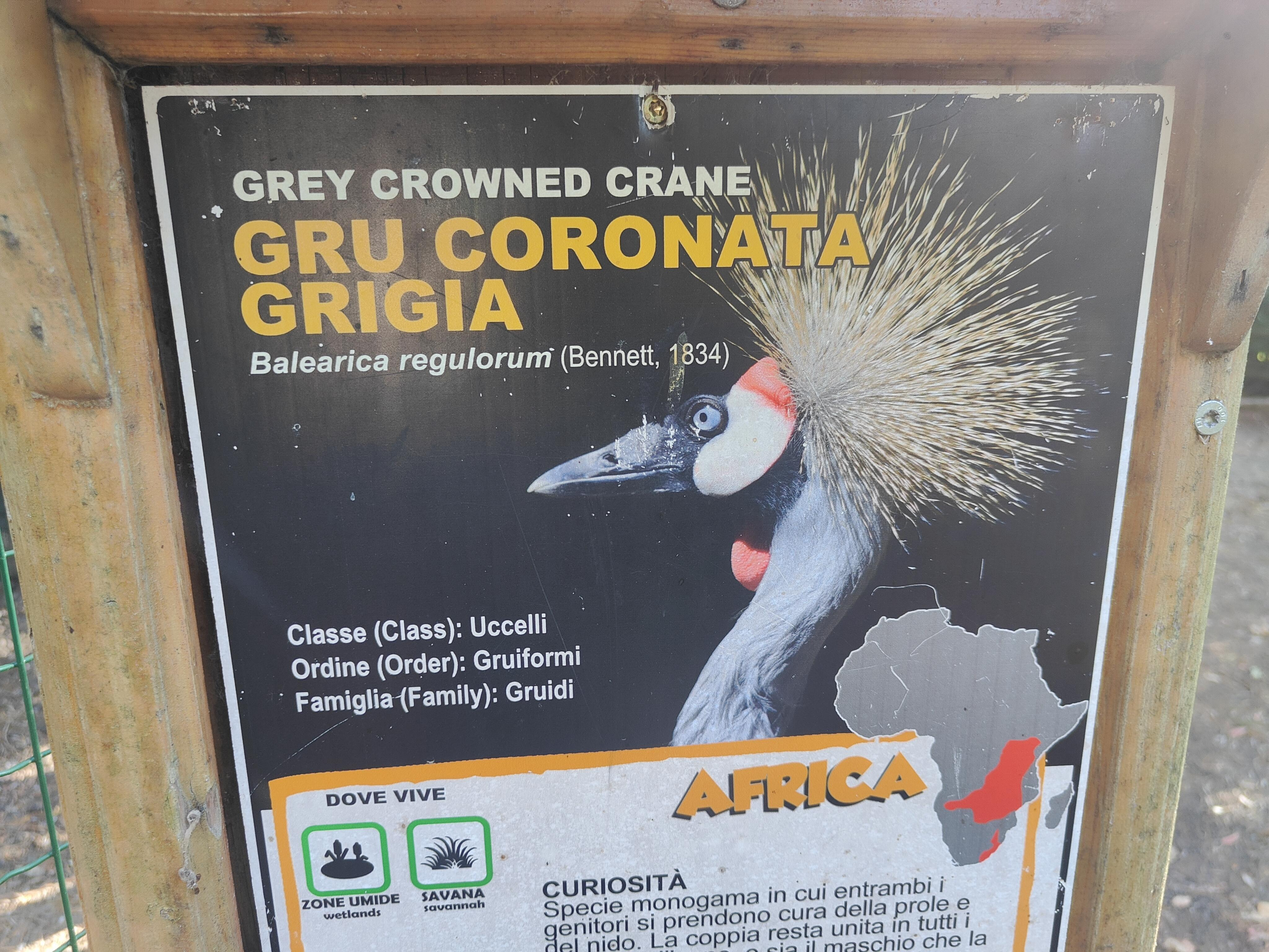apple: (527, 114, 1082, 745)
